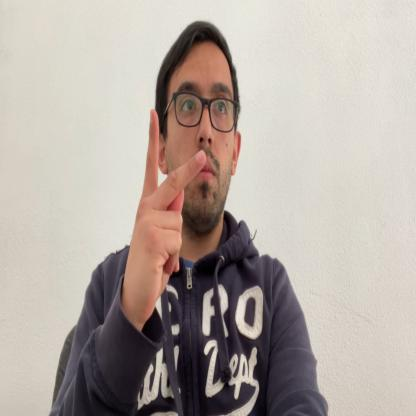P: (124, 108, 206, 324)
